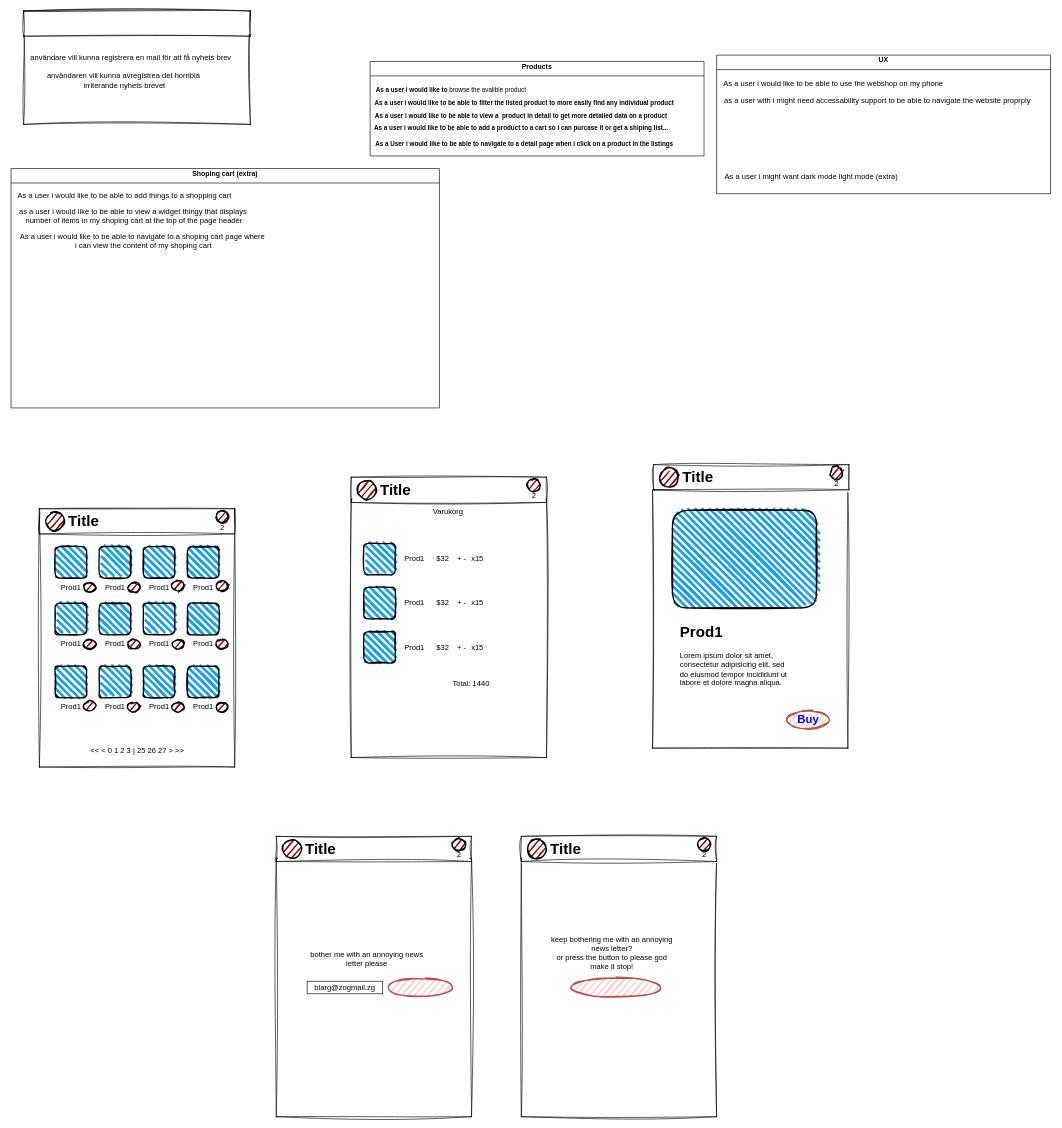
Some shapes in this 1062 by 1128 pixel diagram are drawn without their labels. The shapes that lost their labels are listed below. From the top down, each one's centre as x and y in pixels, then its label:
At (136,23): "Nyhets brev".
At (420,987): "subscribe".
At (615,987): "unsubscribe".
